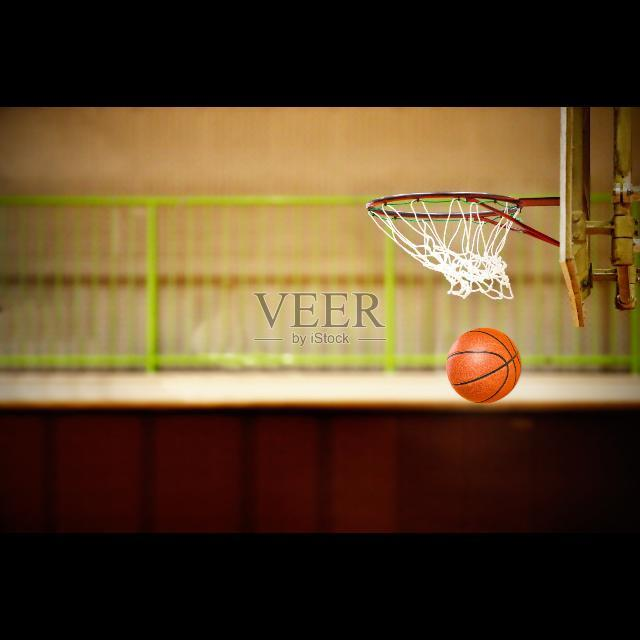basketball: (448, 329, 520, 403)
rim: (366, 192, 520, 300)
